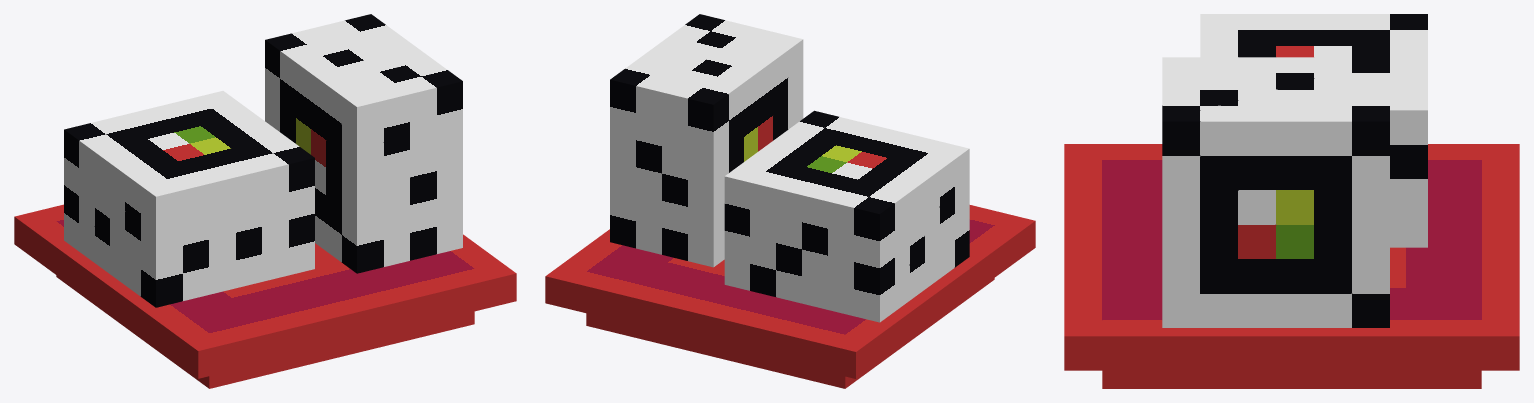
The model's file is PrefabMala2.fbx.
3 views of the same model, side by side, from view 1: azimuth 30°, elevation 25°; view 2: azimuth 150°, elevation 25°; view 3: azimuth 270°, elevation 25° (orthographic). The views are drawn at different scales.
Visible parts, largest first — view 1: PrefabMala2; view 2: PrefabMala2; view 3: PrefabMala2.
Part boxes in pixels (<box>): PrefabMala2: <box>14,14,516,388</box>; PrefabMala2: <box>545,14,1035,388</box>; PrefabMala2: <box>1064,14,1519,388</box>.
Size of the model in its own units: 1.2 by 1.2 by 0.8.
